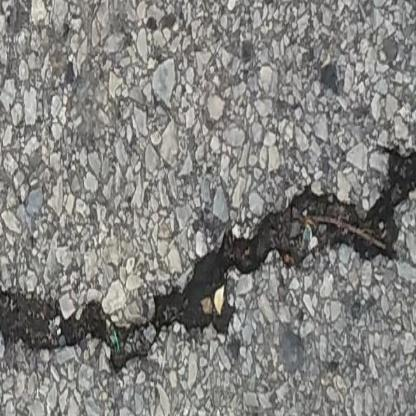Cracks: (0, 121, 416, 373)
